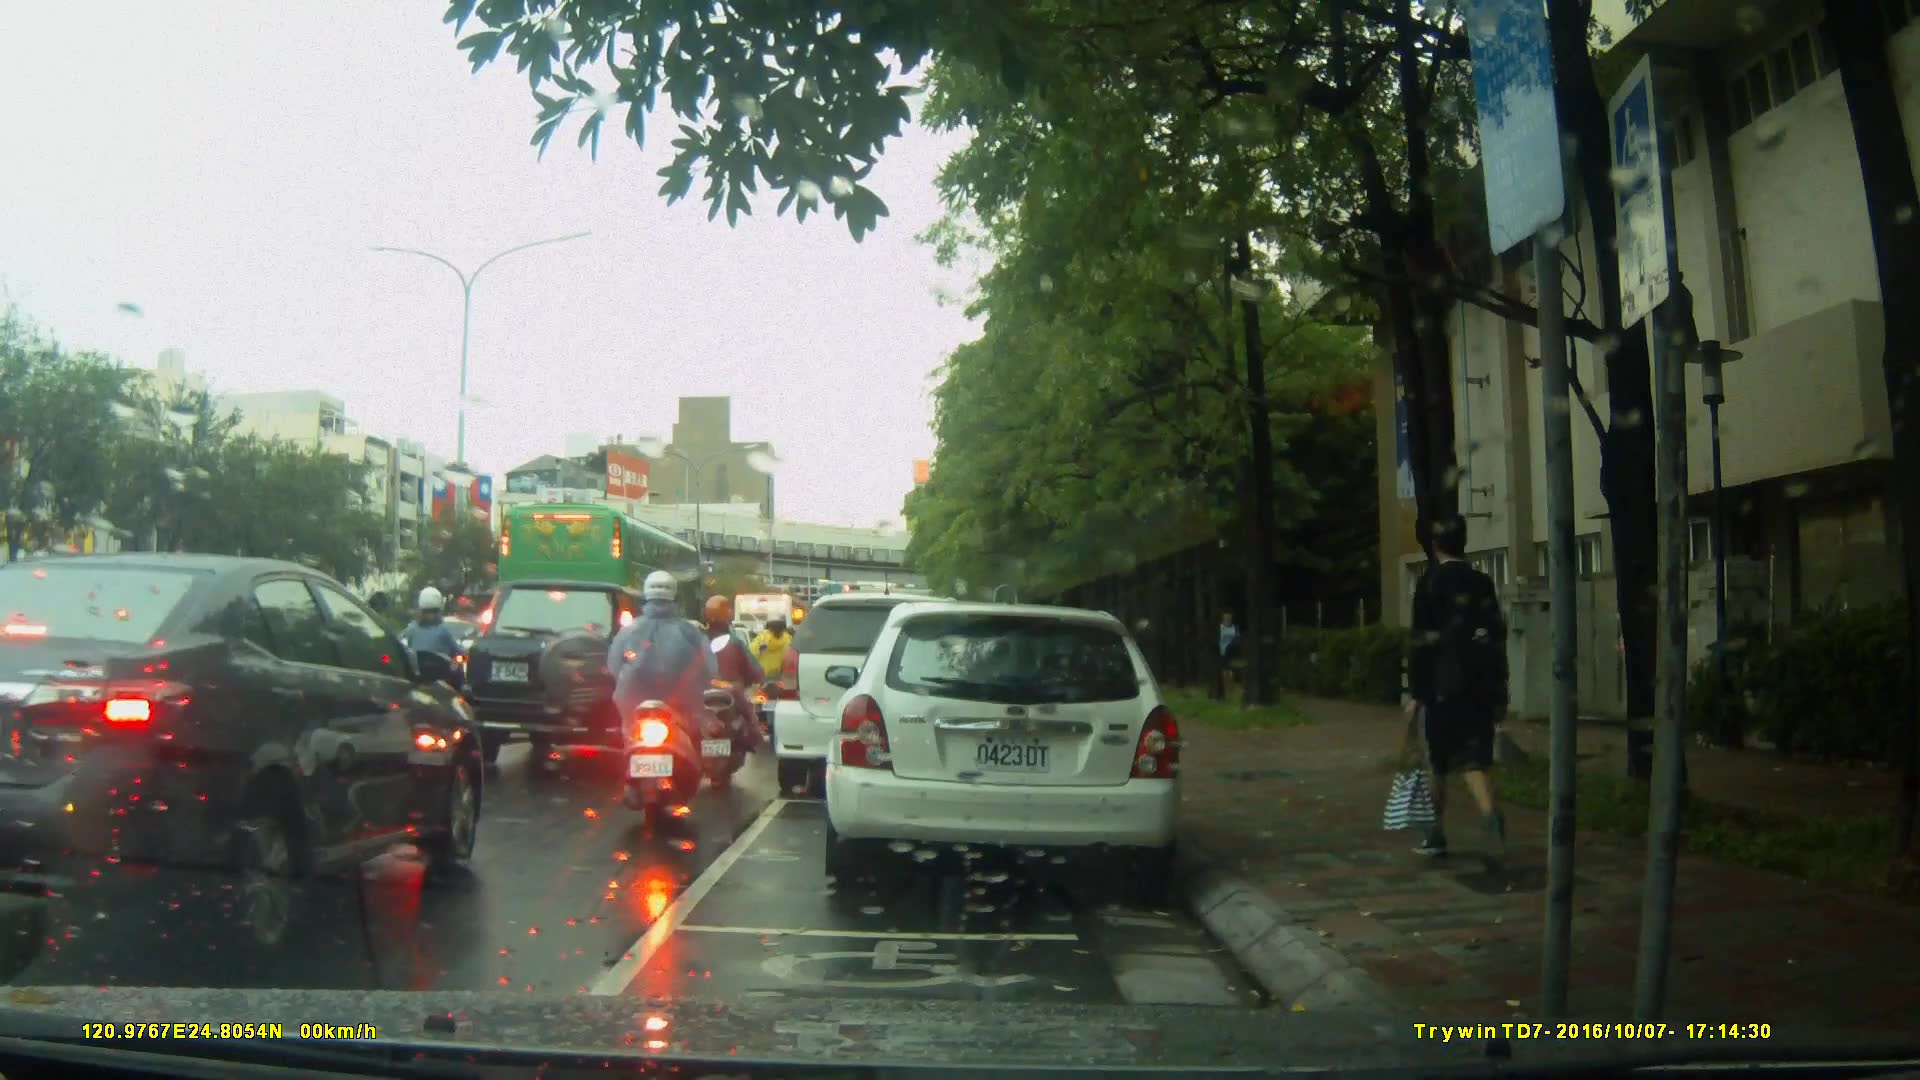pedestrian: (1378, 504, 1533, 868)
rider: (601, 574, 730, 828), (684, 599, 756, 792), (392, 584, 478, 745), (746, 609, 806, 730)
vehicle: (1, 551, 490, 975), (831, 592, 1196, 897), (770, 592, 999, 799), (462, 577, 687, 772), (494, 502, 706, 656)
